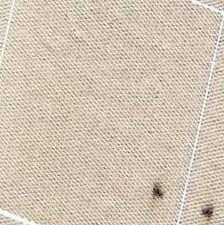stain: (197, 199, 218, 221), (149, 181, 168, 200)
